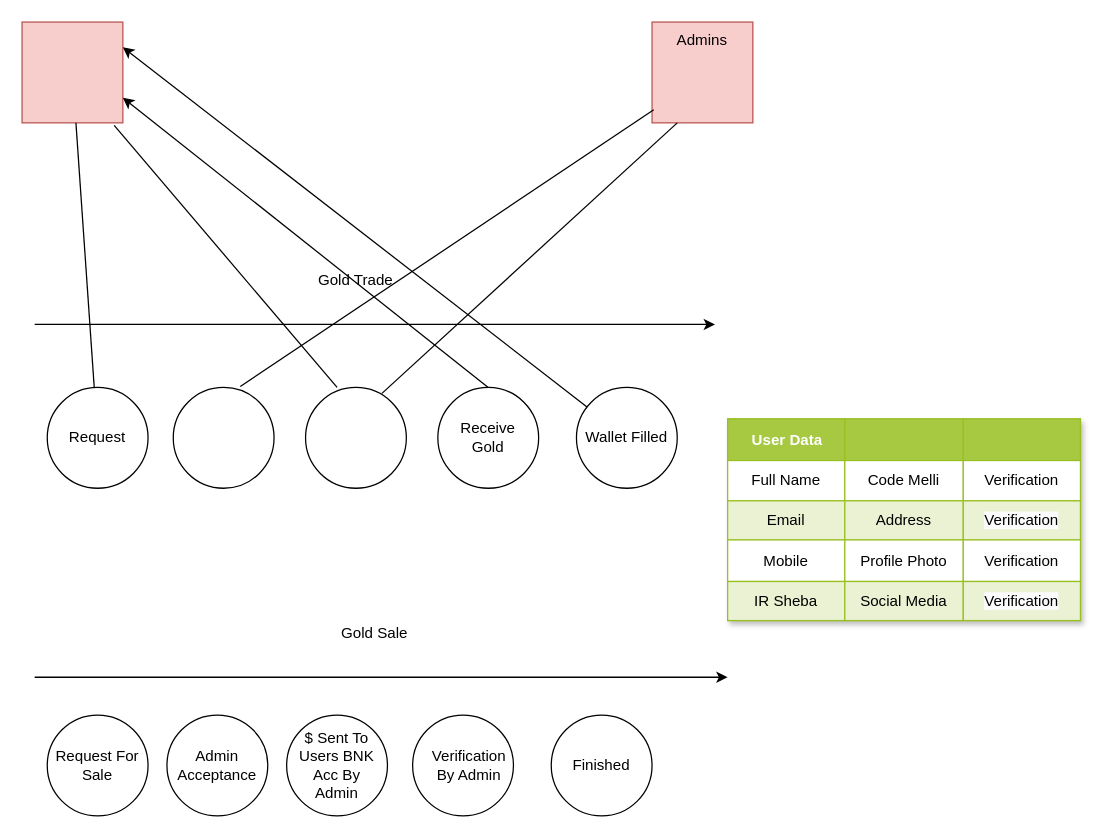
This 1110x838 diagram has some shape labels left out. The centre of each missing label's shape, as x and y in pixels:
"Acceptance" belongs at [223,437].
"Money Sent & Veryfied By Admin" belongs at [355,437].
"Users" belongs at [72,72].
